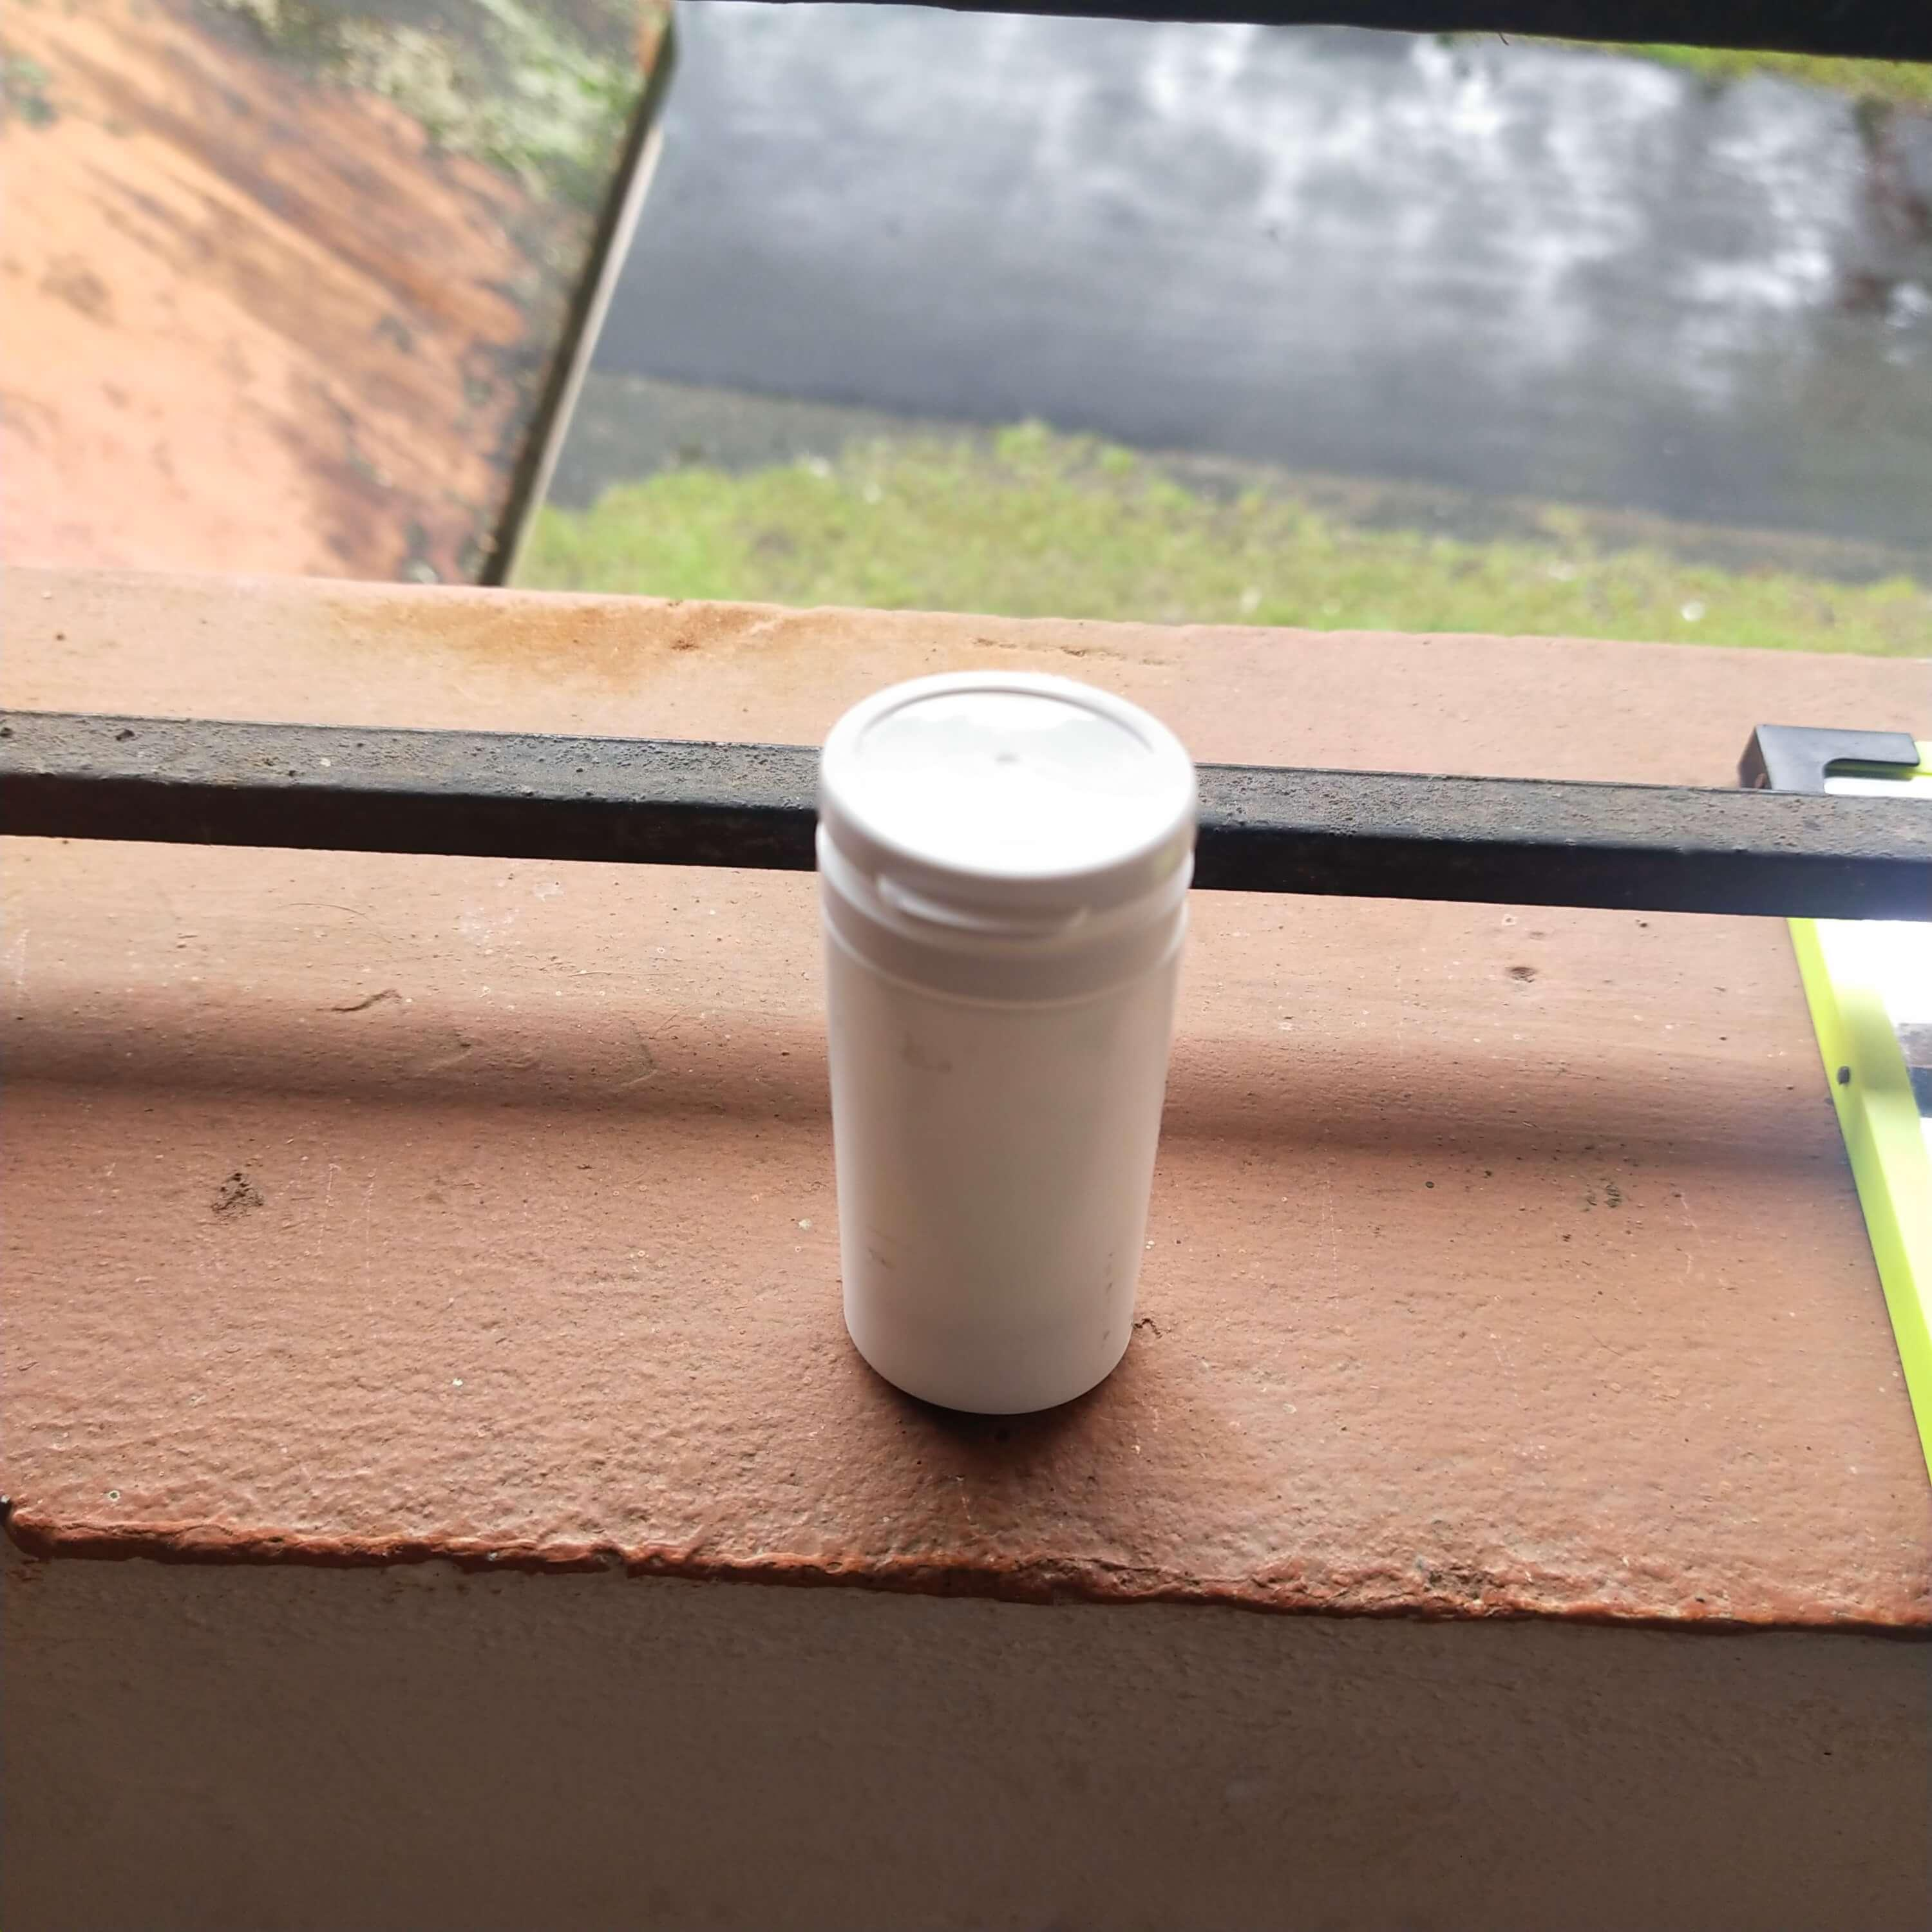plastic box: (805, 651, 1223, 1458)
